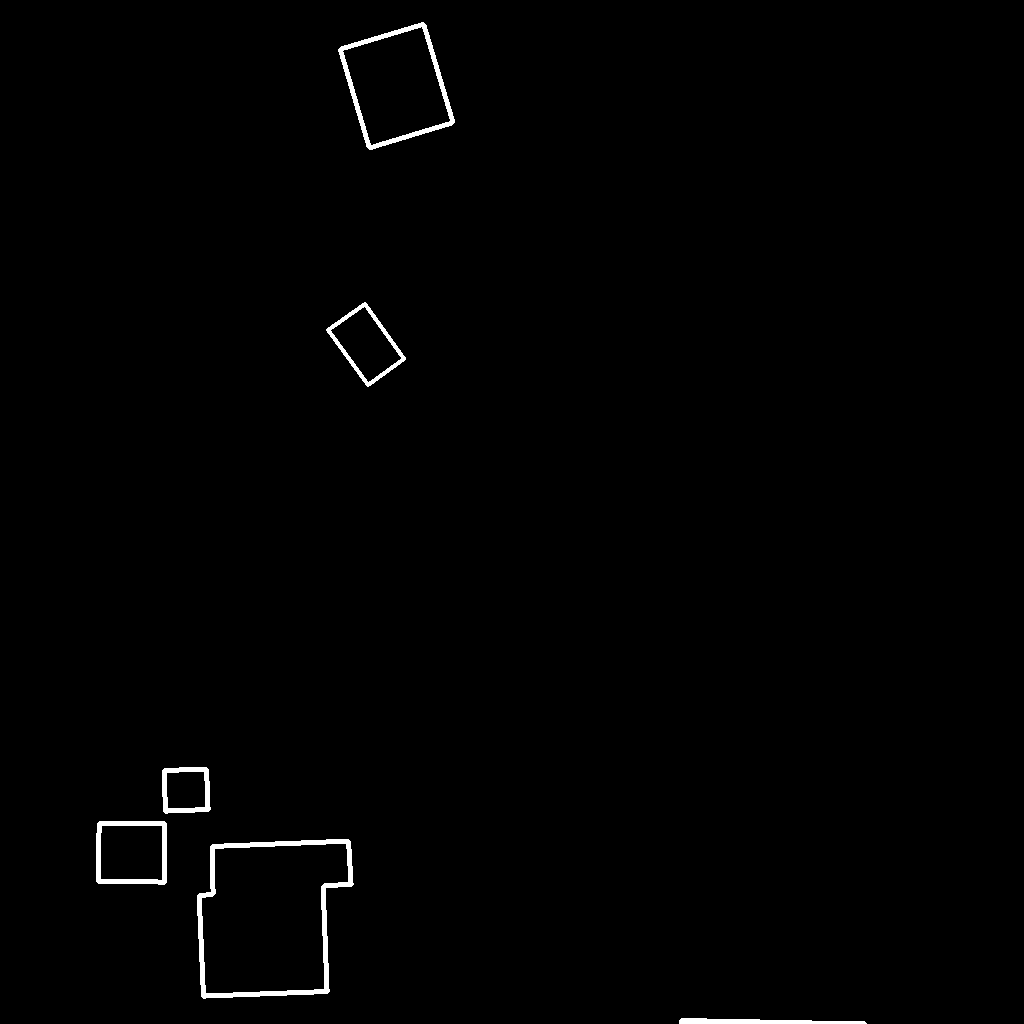building: (199, 841, 352, 997), (340, 24, 454, 149), (328, 304, 405, 386), (98, 823, 166, 883), (164, 769, 209, 812), (681, 1020, 871, 1024)
